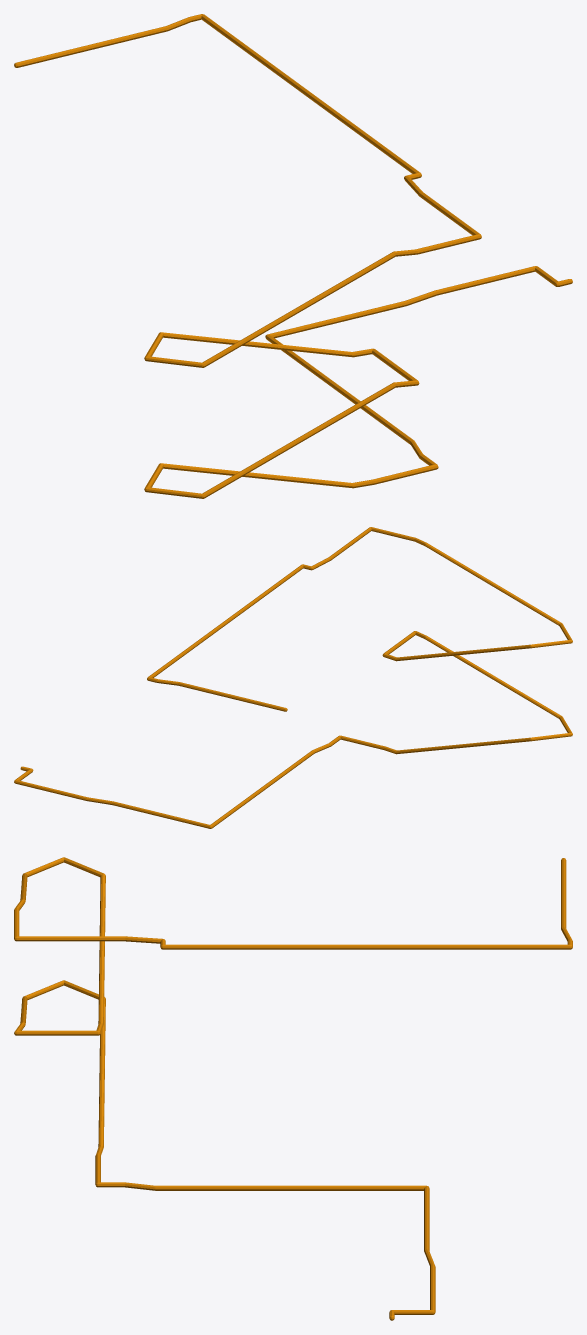
The picture shows the model from 3 angles, top to bottom: view 1: azimuth 30°, elevation 25°; view 2: azimuth 150°, elevation 25°; view 3: azimuth 270°, elevation 25°; orthographic projection. The views are drawn at different scales.
Bounding box in the file's own units: 2408 × 1020 × 2059.
